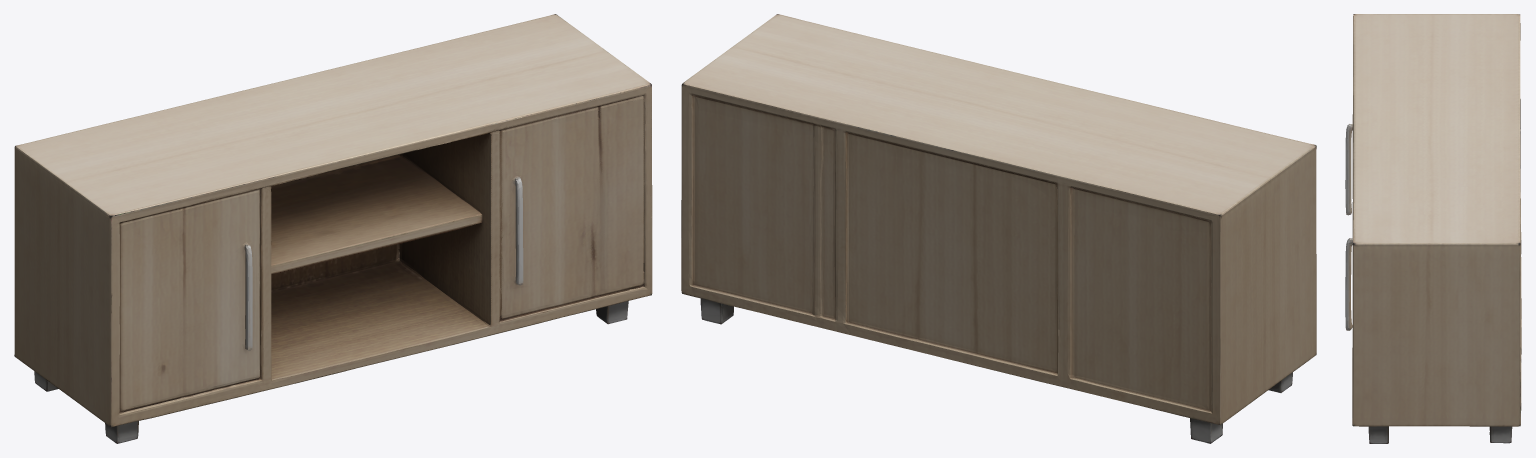
The model's file is mwpls7b_plasma_wooden_tv_stand_sanremo.glb.
The picture shows the model from 3 angles, left to right: view 1: azimuth 30°, elevation 25°; view 2: azimuth 150°, elevation 25°; view 3: azimuth 270°, elevation 25°; orthographic projection. The views are drawn at different scales.
Visible parts, largest first — view 1: world; view 2: world; view 3: world.
Boxes of the visible parts, x1,y1,x2,y2 form: world: (14, 14, 652, 443); world: (681, 14, 1316, 443); world: (1345, 14, 1521, 443).
Bounding box in the file's own units: 1 × 0.421 × 0.3244.
1 material, 1 textured.
